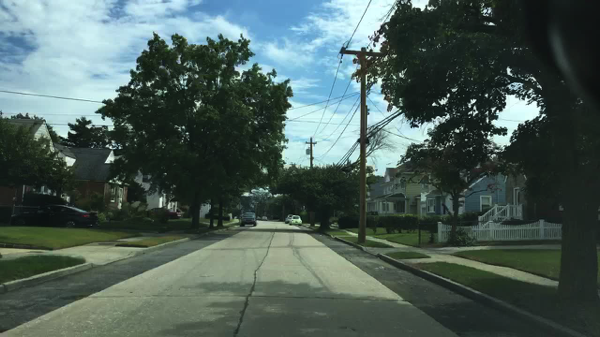car: (11, 205, 98, 228), (150, 207, 182, 219), (240, 213, 257, 227), (288, 216, 302, 226), (285, 215, 294, 224), (262, 216, 267, 221), (256, 217, 261, 221)
